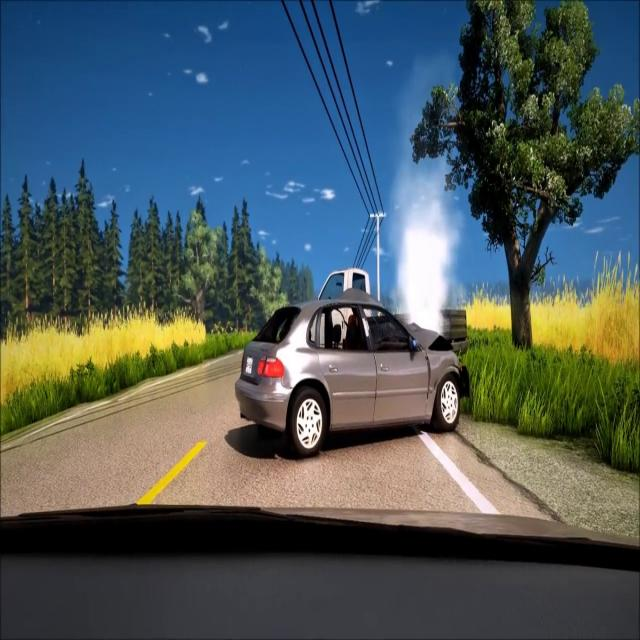accident: (232, 263, 469, 463)
